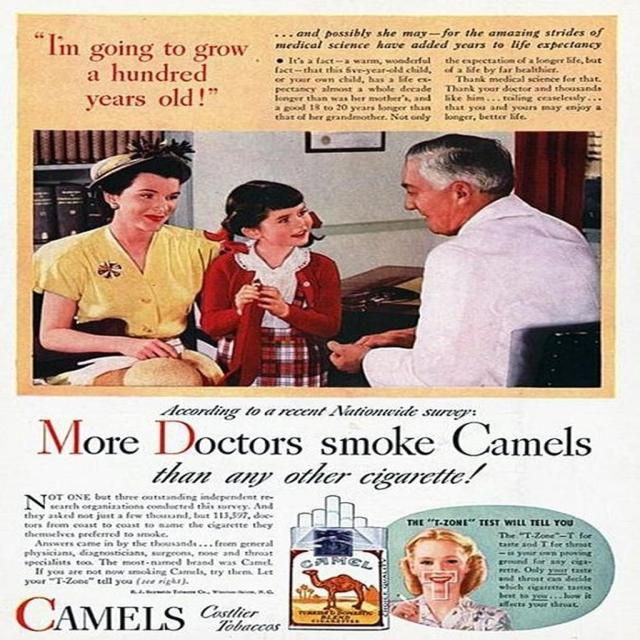smoking: (387, 529, 492, 614)
